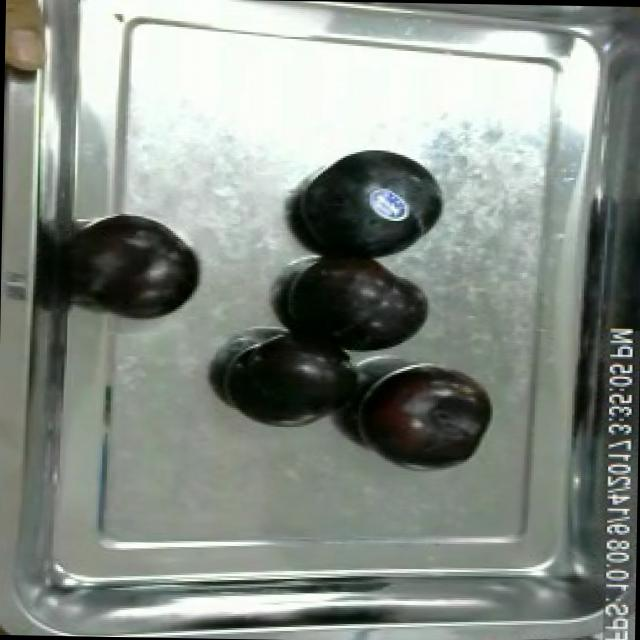Fruit: (288, 138, 454, 268), (275, 245, 438, 356), (354, 359, 498, 471), (213, 332, 364, 431), (84, 220, 206, 320), (5, 0, 60, 79)
